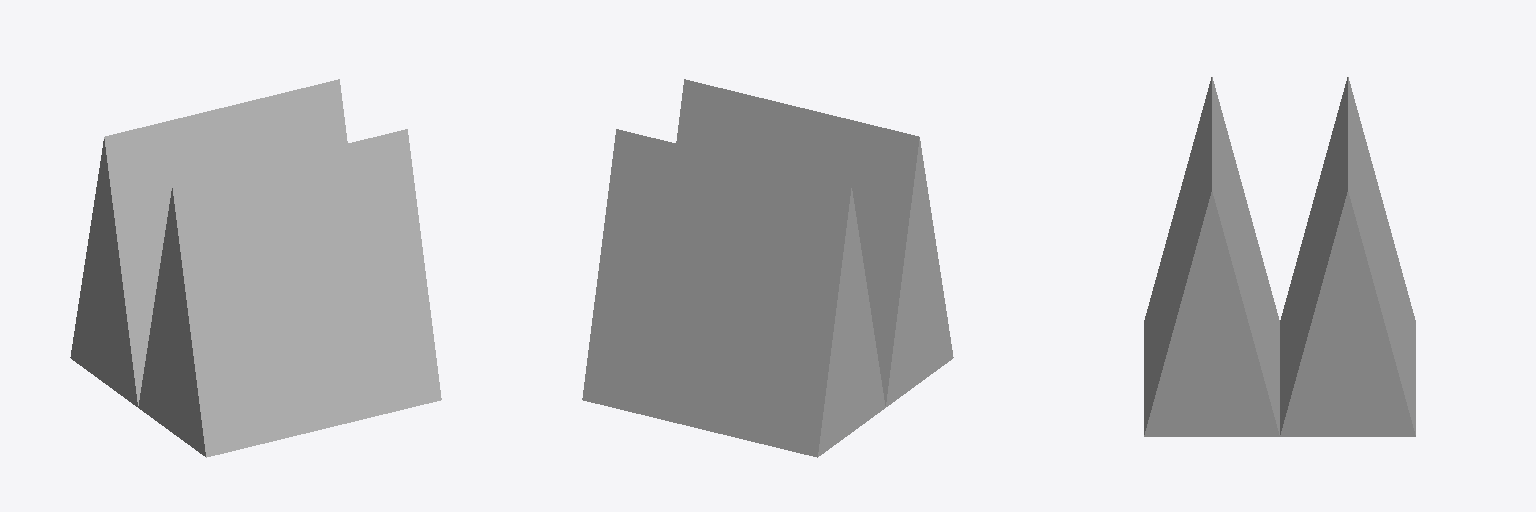
Rendered from obstacle03.obj.
The picture shows the model from 3 angles: view 1: azimuth 30°, elevation 25°; view 2: azimuth 150°, elevation 25°; view 3: azimuth 270°, elevation 25°; orthographic projection.
Visible parts, largest first — view 1: obstacle03; view 2: obstacle03; view 3: obstacle03.
Part boxes in pixels (x1,y1,x2,y2): obstacle03: (70, 79, 441, 457); obstacle03: (582, 79, 953, 457); obstacle03: (1144, 77, 1415, 436).
Size of the model in its own units: 2 by 2 by 2.